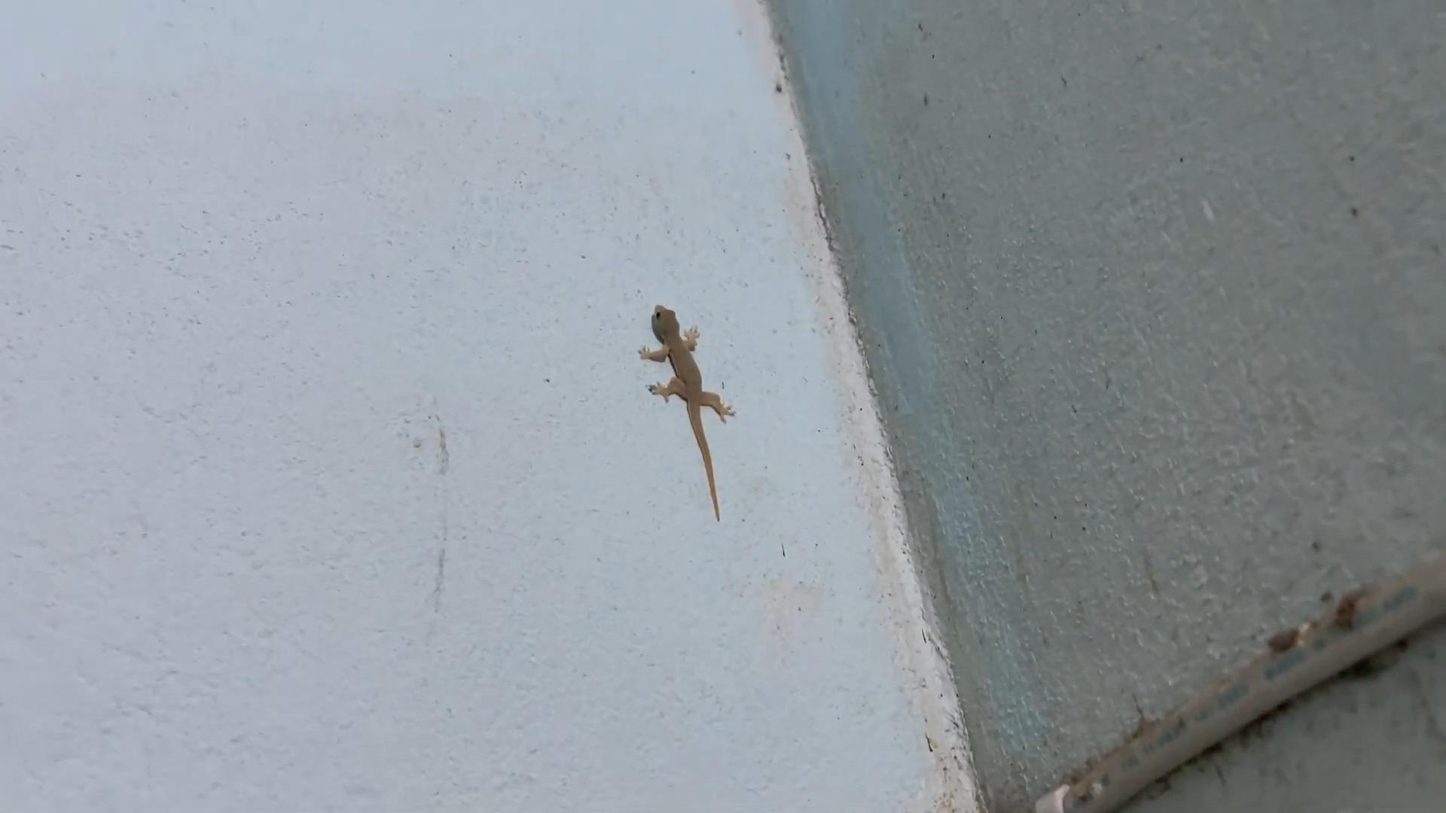lizard: (624, 288, 737, 524)
